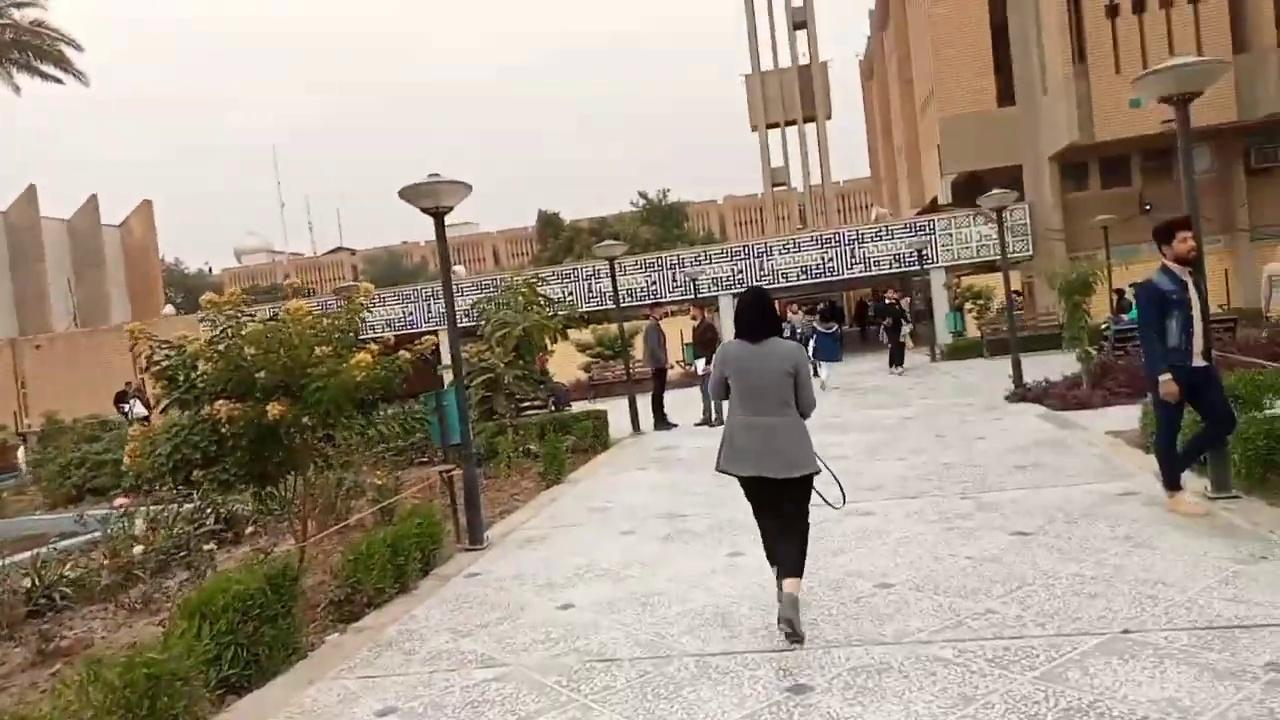person: (707, 285, 821, 645), (1133, 213, 1238, 516), (642, 301, 678, 430), (689, 301, 723, 426), (535, 351, 571, 411), (125, 386, 151, 425), (113, 380, 133, 417), (1111, 287, 1131, 319), (1010, 289, 1023, 311)
tree: (119, 275, 437, 564), (458, 275, 588, 474), (528, 185, 720, 267), (1041, 257, 1108, 389), (0, 0, 89, 97), (628, 186, 688, 250), (529, 207, 566, 265), (965, 281, 997, 333)
